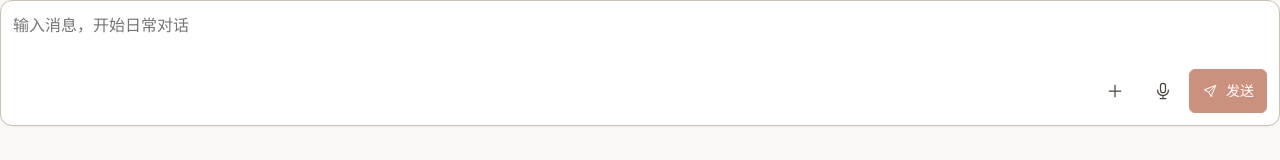
Test: Composer 听写 › 开始、停止录音后回填可编辑文本，不自动发送
The width and height of the screenshot is (1280, 160).
Click the button named "开始听写": x=1163, y=91 1141,69 -> 1185,113
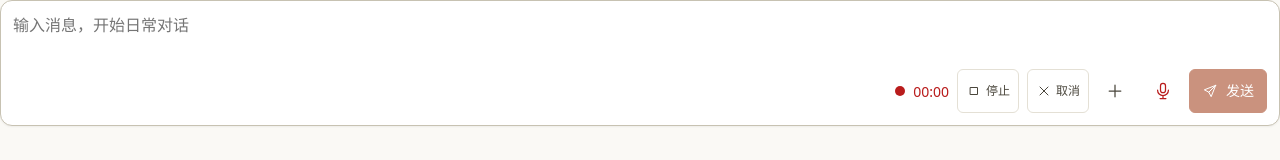
Expected: the button with aria-label "停止录音并转写" is shown
Click the button with aria-label "停止录音并转写": x=988, y=91 957,69 -> 1019,113
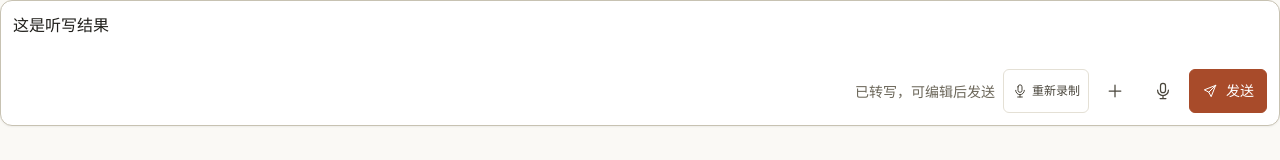
Expected: the text box holds "这是听写结果", 13,13 -> 1267,61
Expected: the text "已转写，可编辑后发送" is shown, 855,80 -> 995,102
